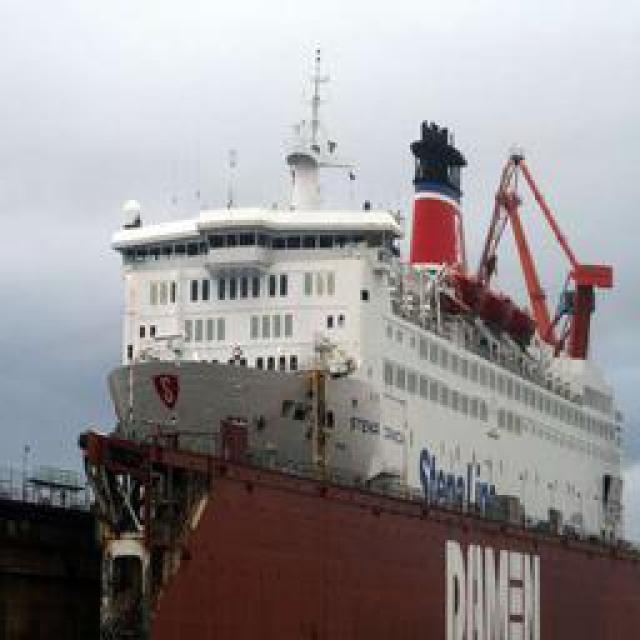Ship: (86, 96, 626, 614)
